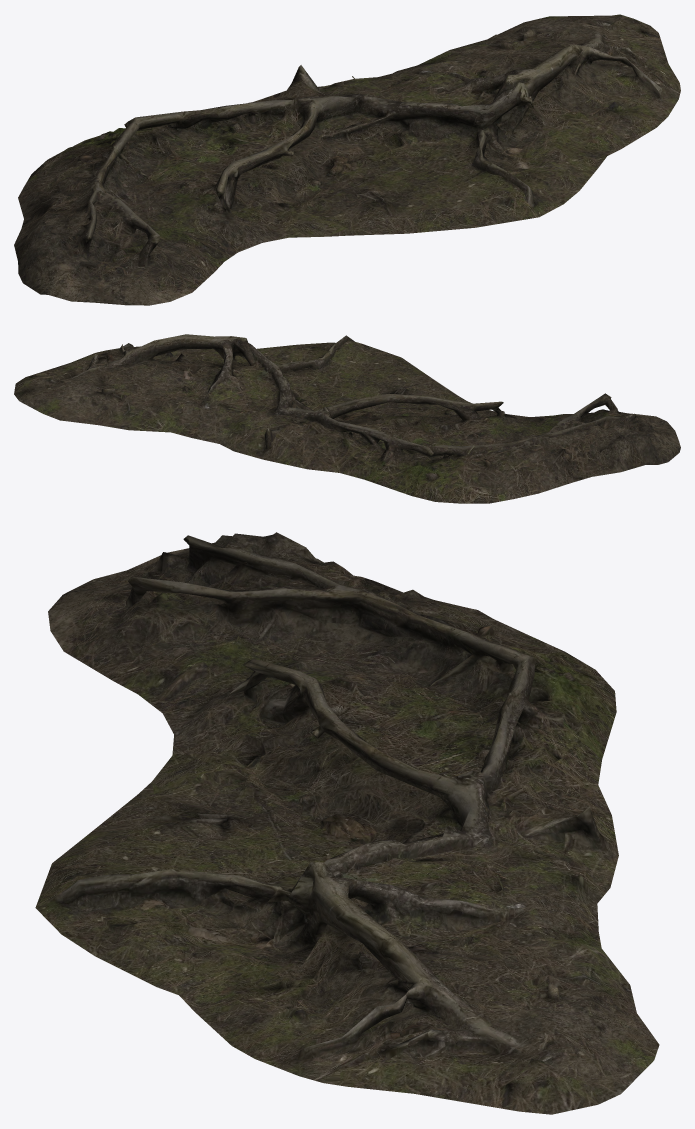
Rendered from pine_roots_a.glb.
3 renders of one model, top to bottom at view 1: azimuth 30°, elevation 25°; view 2: azimuth 150°, elevation 25°; view 3: azimuth 270°, elevation 25°, orthographic. The views are drawn at different scales.
Visible parts, largest first — view 1: pine_roots_a__lodS; view 2: pine_roots_a__lodS; view 3: pine_roots_a__lodS.
Part boxes in pixels (left/top/right/bottom): pine_roots_a__lodS: left=14, top=14, right=680, bottom=305; pine_roots_a__lodS: left=14, top=334, right=680, bottom=503; pine_roots_a__lodS: left=35, top=532, right=659, bottom=1114.
Size of what is drawn, in the model's own units: 1.74 by 0.1442 by 0.8246.
Materials: 1 (1 with a texture image).
